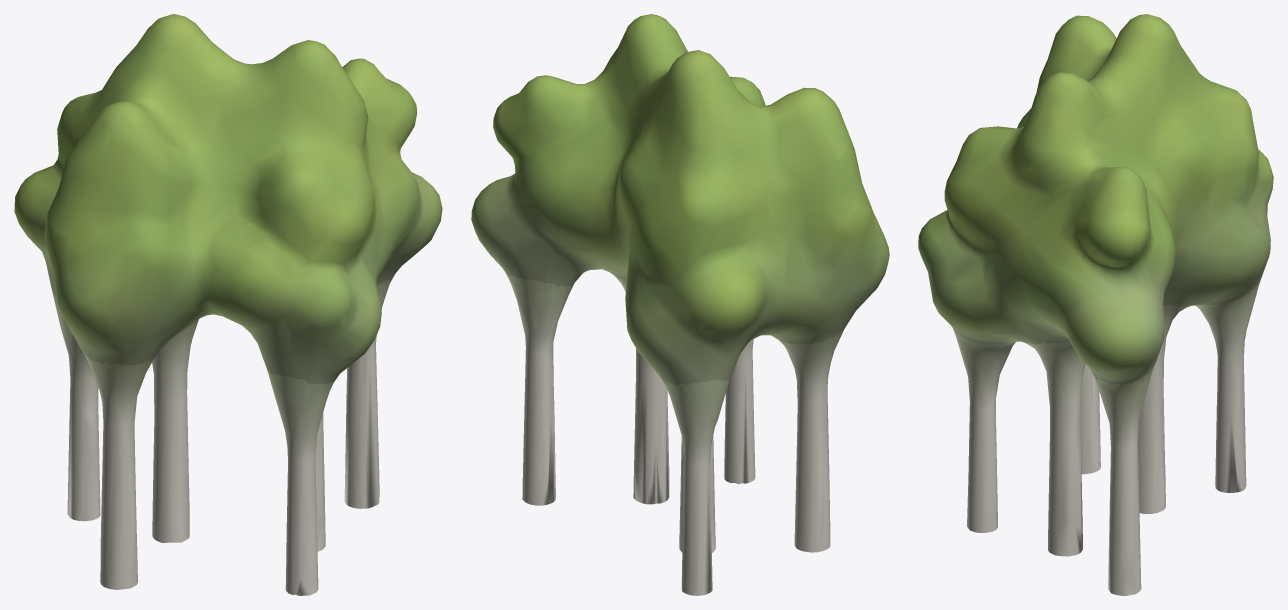
File: cluster6.glb
3 views of the same model, side by side, from view 1: azimuth 30°, elevation 25°; view 2: azimuth 150°, elevation 25°; view 3: azimuth 270°, elevation 25° (orthographic). The views are drawn at different scales.
Parts seen in each view (by area): view 1: body; view 2: body; view 3: body.
Part boxes in pixels (<box>): body: <box>14,14,442,595</box>; body: <box>471,14,889,595</box>; body: <box>918,14,1273,595</box>.
Size of the model in its own units: 7.39 by 9.19 by 6.02.
